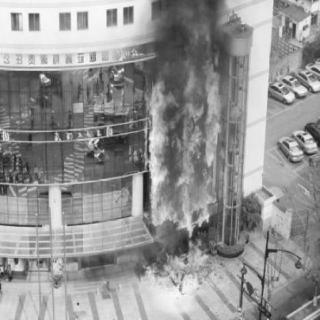Fire: (117, 44, 229, 288)
Smoke: (157, 3, 219, 46)
other: (92, 277, 124, 300)
